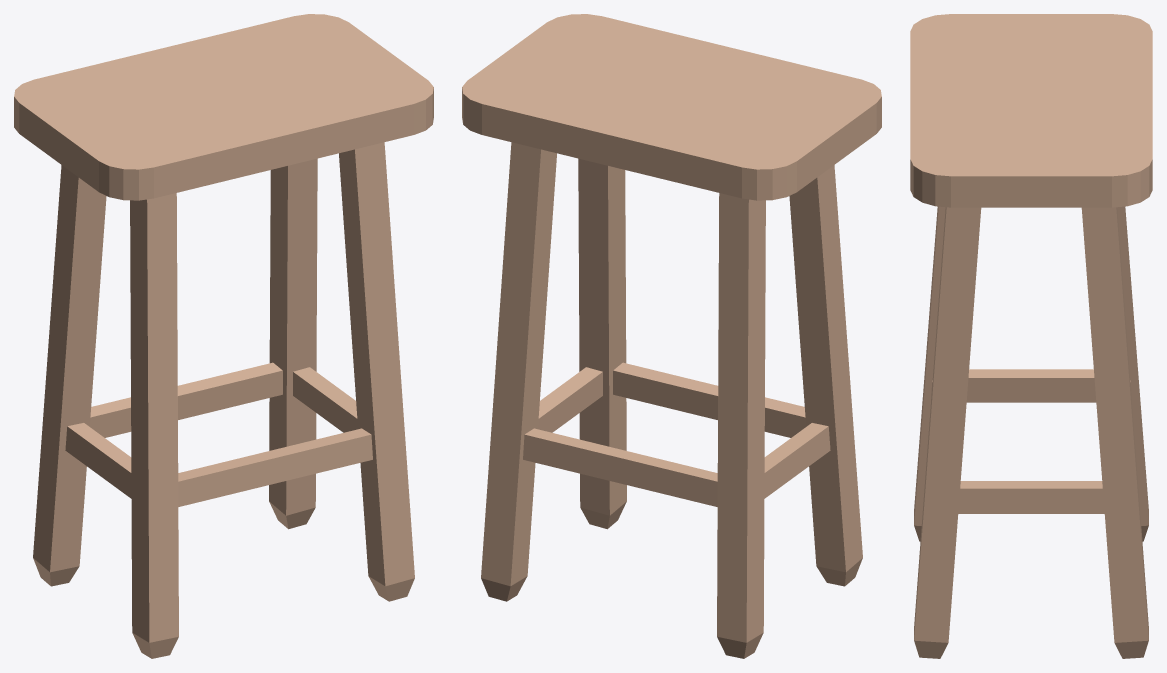
File: Stool 1.fbx
3 views of the same model, side by side, from view 1: azimuth 30°, elevation 25°; view 2: azimuth 150°, elevation 25°; view 3: azimuth 270°, elevation 25° (orthographic).
Parts seen in each view (by area): view 1: Stool 1; view 2: Stool 1; view 3: Stool 1.
Part boxes in pixels (x1,y1,x2,y2): Stool 1: (14, 14, 433, 658); Stool 1: (462, 14, 881, 658); Stool 1: (910, 14, 1152, 658).
Bounding box in the file's own units: 0.4233 × 0.6099 × 0.2667.
